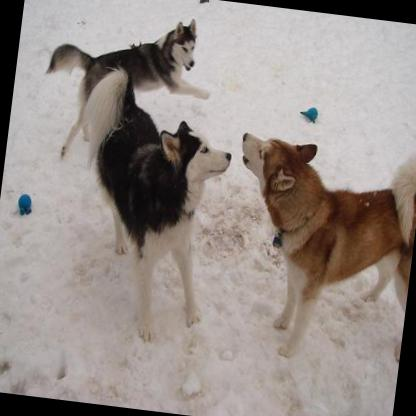Siberian_husky: (57, 62, 238, 347), (215, 129, 416, 369), (34, 0, 218, 176)
